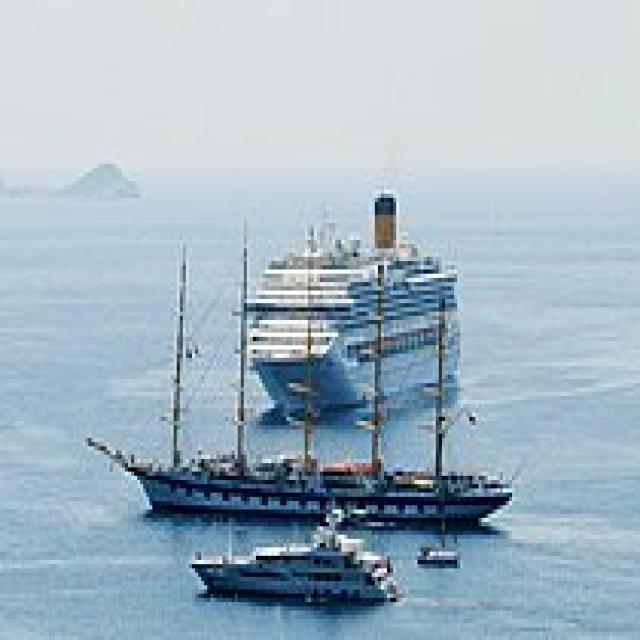Cruise: (241, 185, 460, 417)
